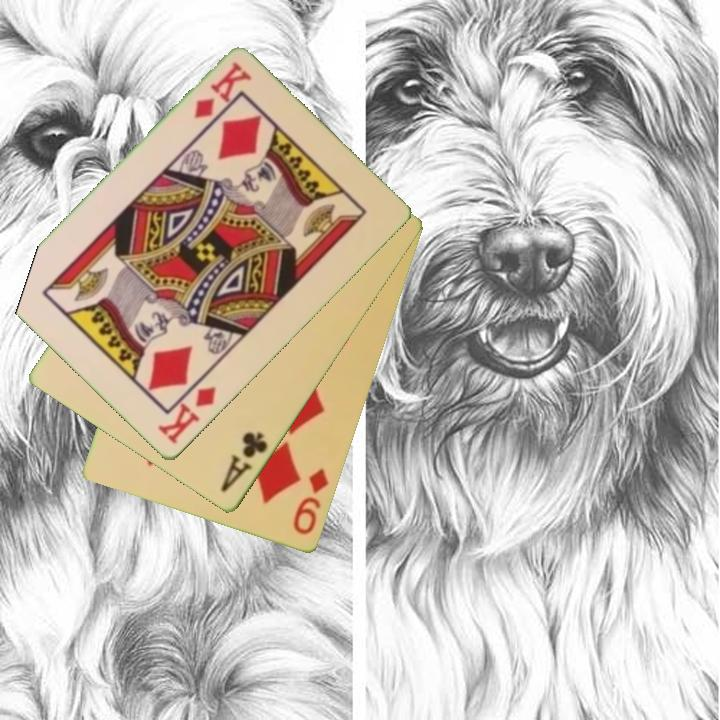9d: (290, 465, 332, 538)
Ac: (217, 429, 271, 496)
Kd: (154, 383, 220, 448), (190, 59, 254, 123)
